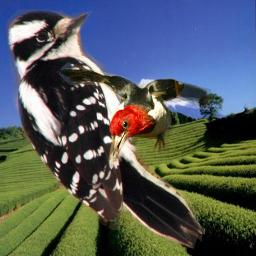Woodpecker: (6, 9, 205, 253), (52, 59, 211, 168)
